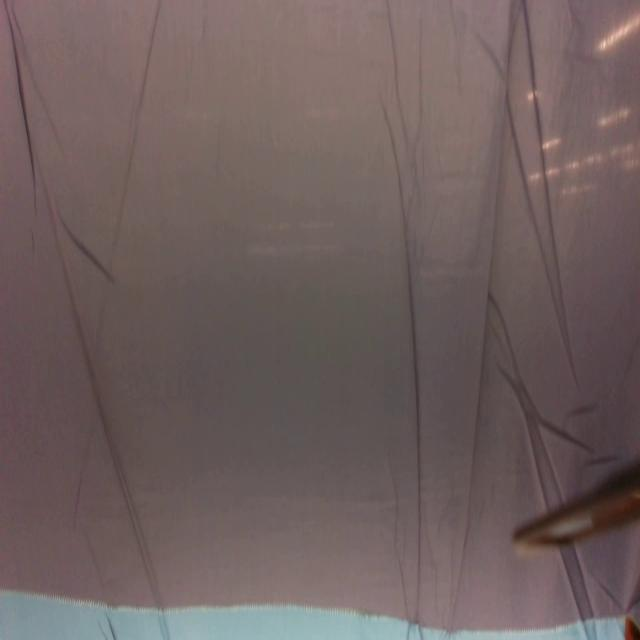crease: (42, 172, 173, 640), (477, 0, 580, 382), (376, 90, 424, 626), (488, 290, 563, 509), (117, 0, 162, 231), (3, 0, 39, 212), (56, 207, 117, 284), (559, 549, 604, 638), (386, 1, 412, 143), (417, 20, 428, 136)
